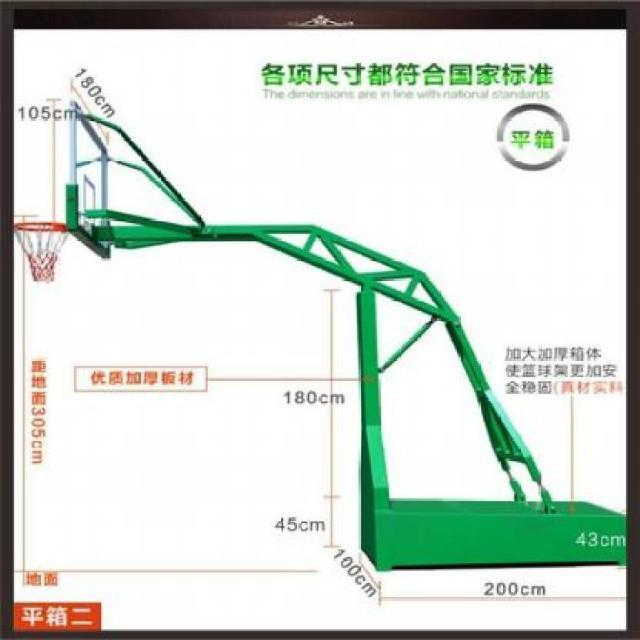rim: (14, 222, 66, 284)
